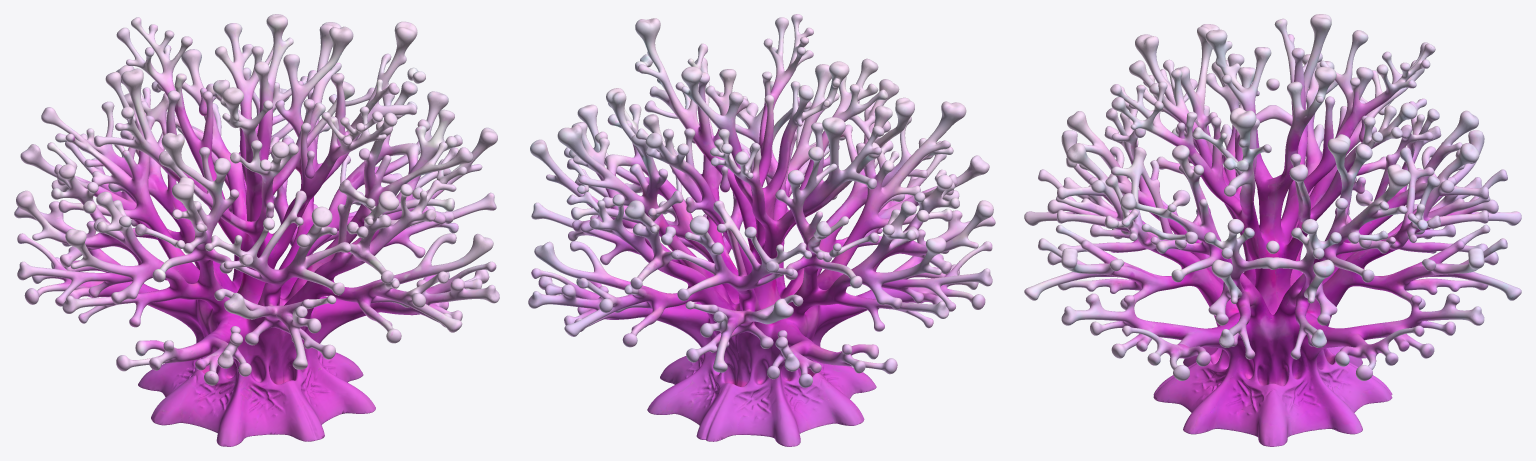
Rendered from coral.glb.
The picture shows the model from 3 angles, left to right: view 1: azimuth 30°, elevation 25°; view 2: azimuth 150°, elevation 25°; view 3: azimuth 270°, elevation 25°; orthographic projection. The views are drawn at different scales.
Bounding box in the file's own units: 1.9 × 1.48 × 1.9.
Materials: 1 (1 with a texture image).
